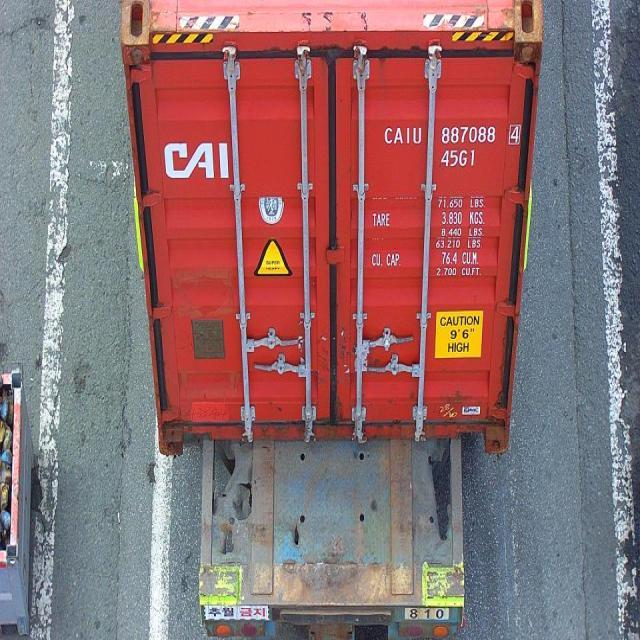ISO: (438, 148, 478, 166)
container_number: (382, 124, 516, 146)
